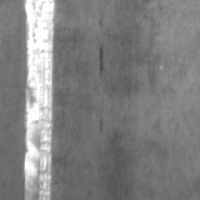inclusion: (94, 41, 108, 80)
scratches: (21, 0, 57, 199)
